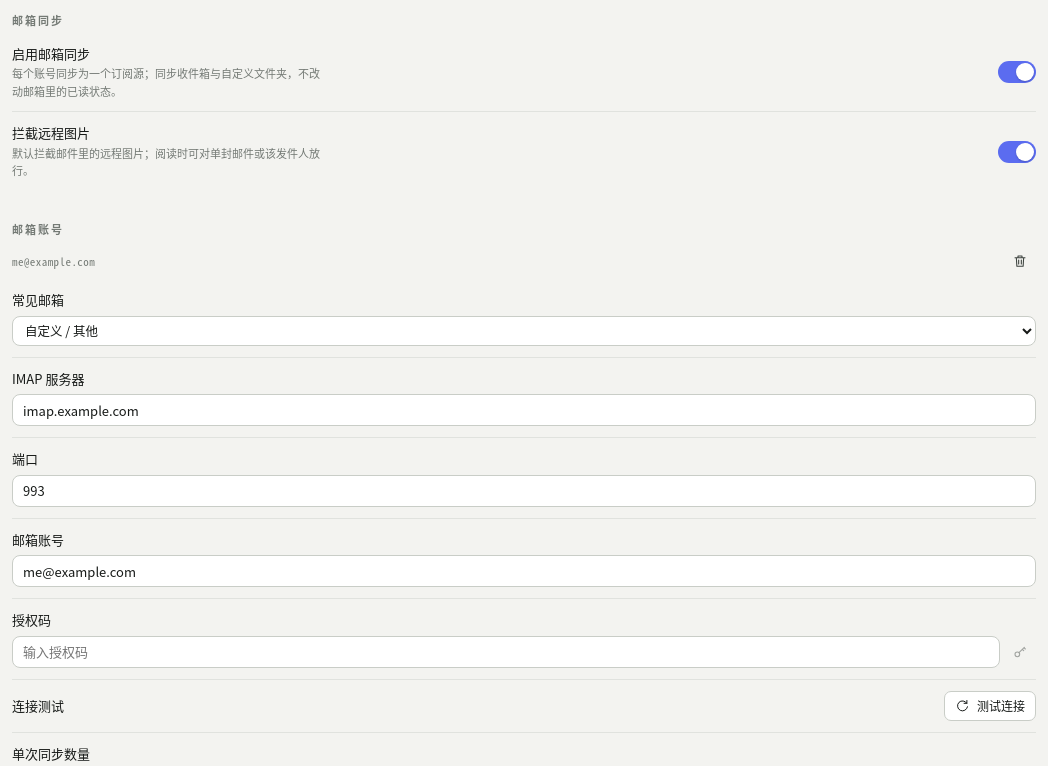
Test: EmailSettings › shows the backend message when the connection test fails
Click the button "测试连接" at (990, 706), box [944,691,1036,721]
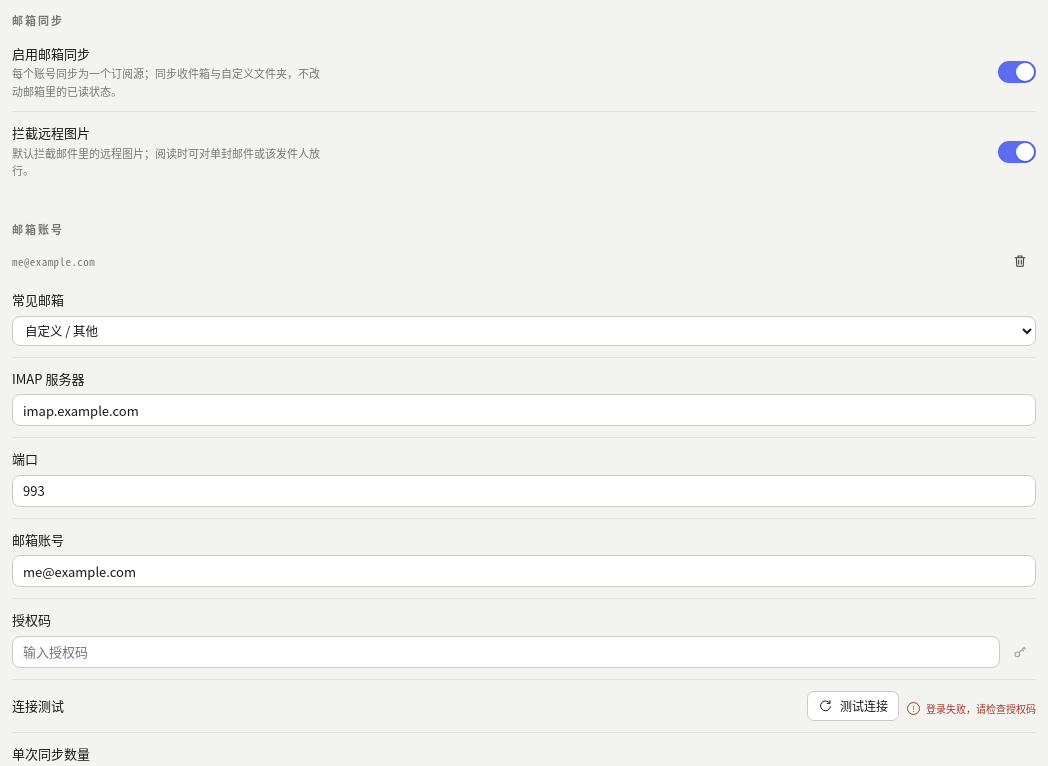
Expected: the text "登录失败，请检查授权码" is shown, [907,695,1036,716]
